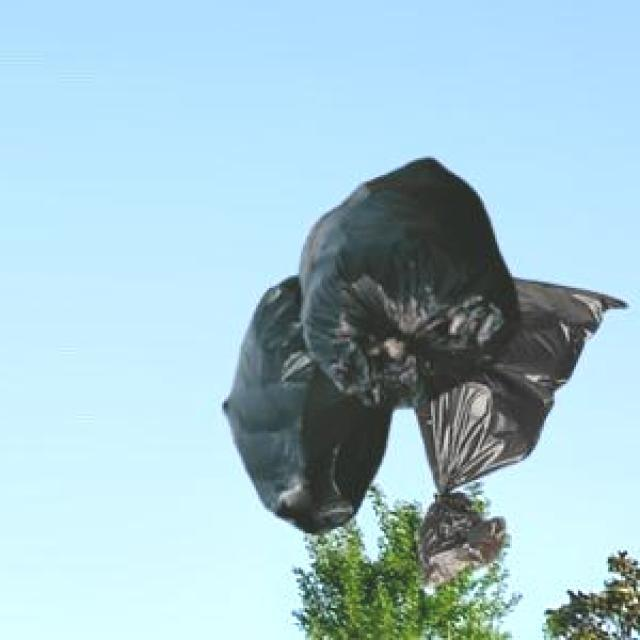Trashbag: (292, 143, 522, 395)
